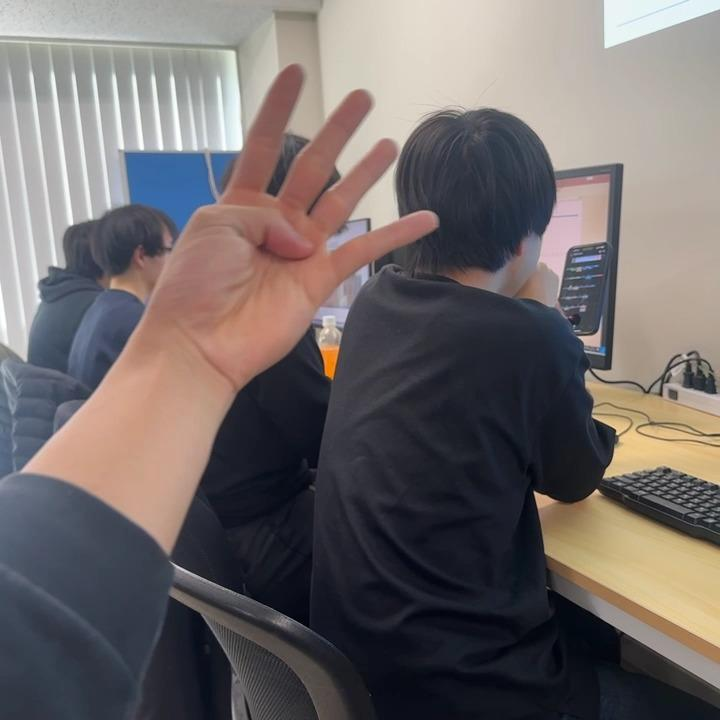without_gloves: (84, 15, 502, 406)
